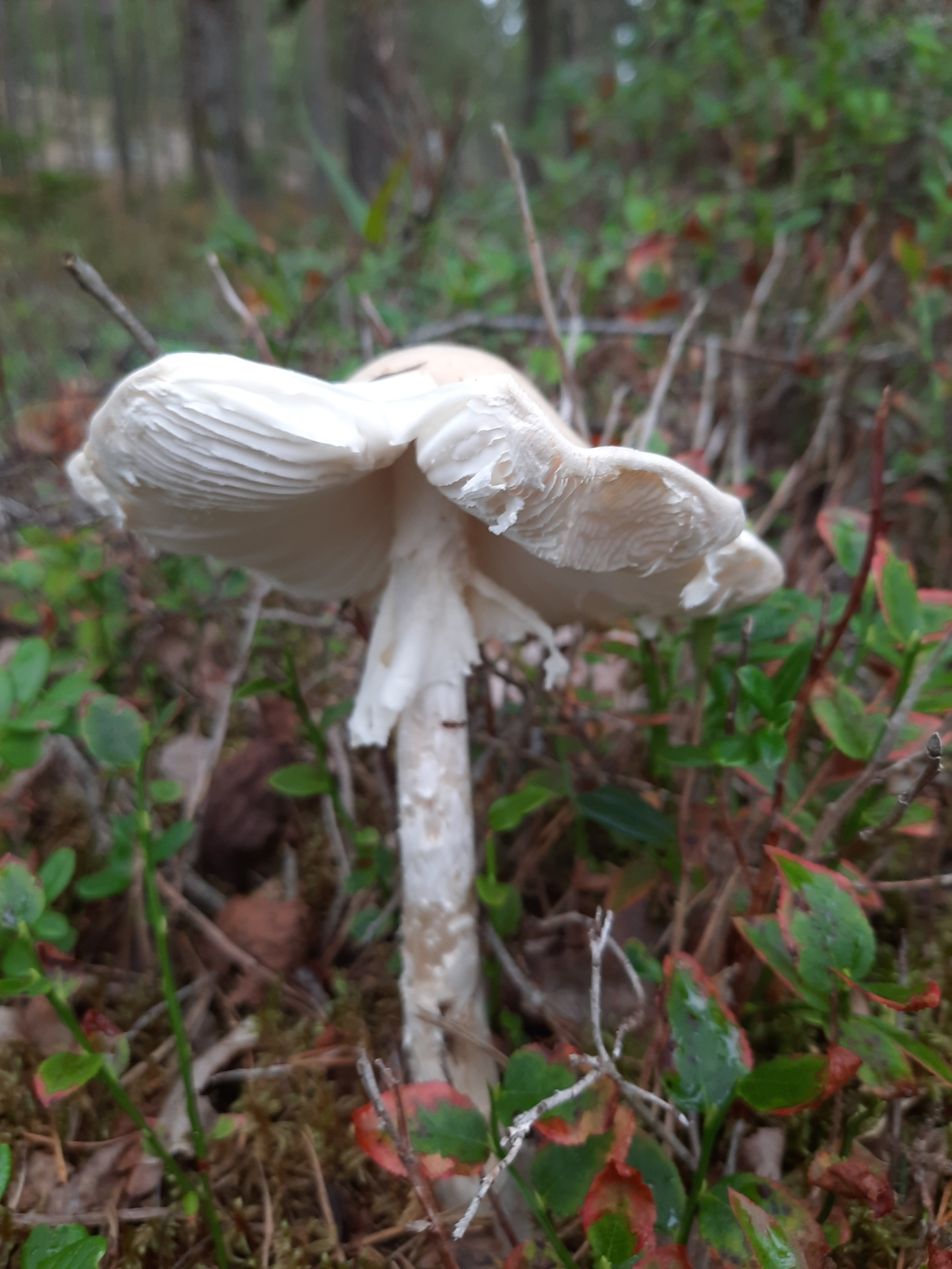stem: (351, 466, 485, 1076)
underside: (68, 353, 782, 625)
